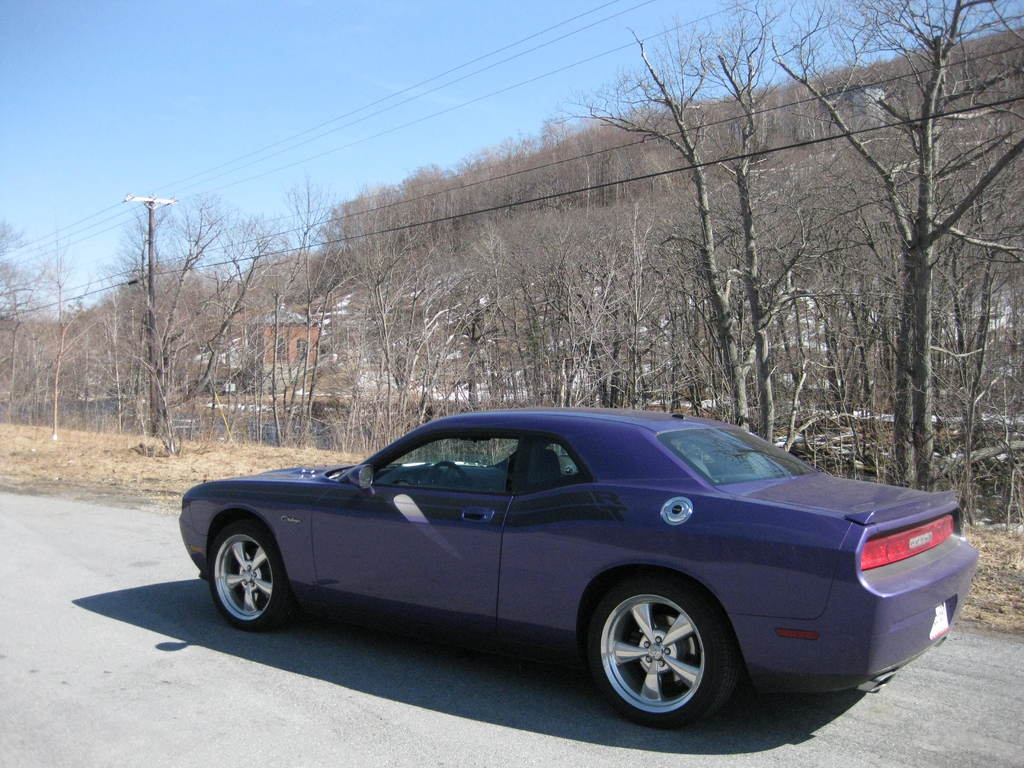Car: (156, 408, 992, 724)
